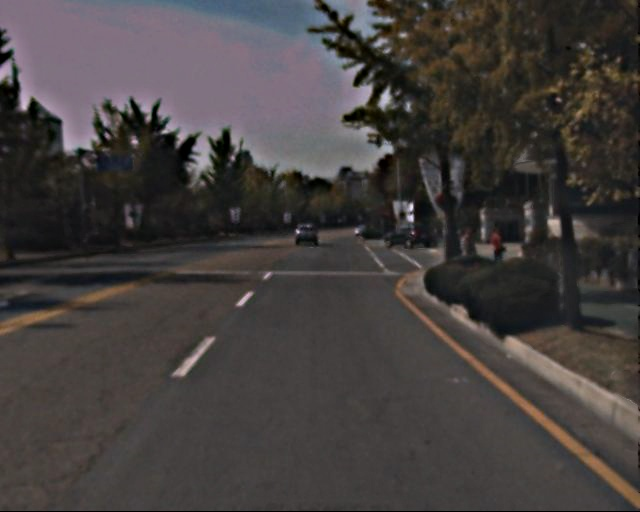person: (487, 225, 508, 276)
